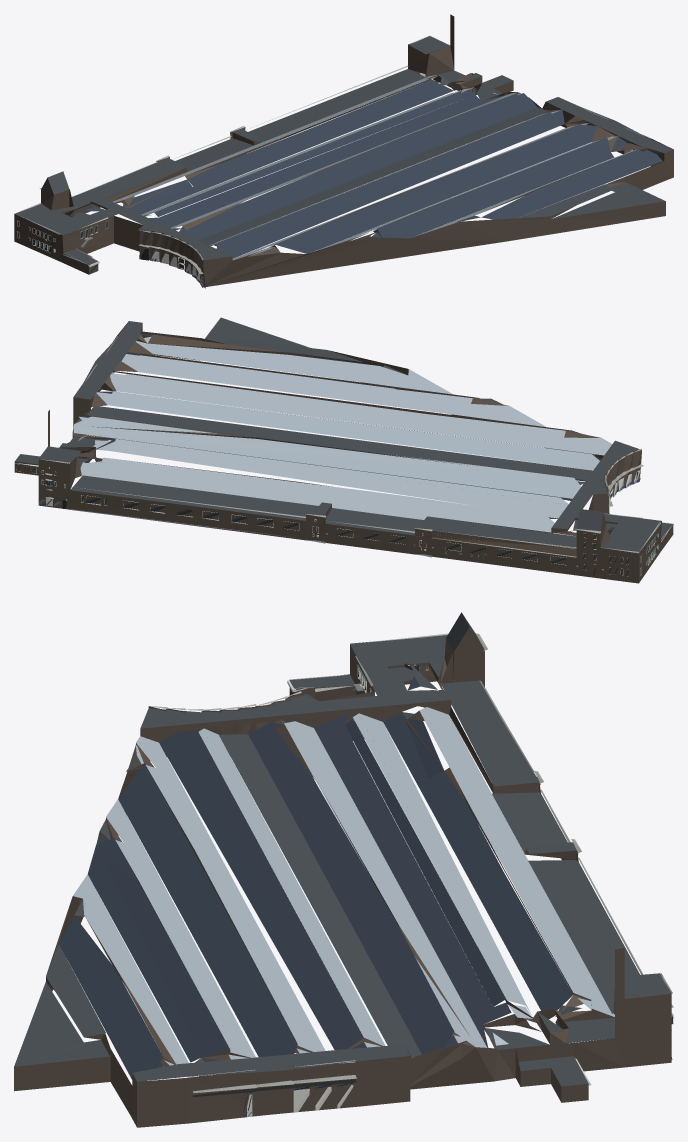
File: tramremise-lekstraat.lod1.glb
The picture shows the model from 3 angles, top to bottom: view 1: azimuth 30°, elevation 25°; view 2: azimuth 150°, elevation 25°; view 3: azimuth 270°, elevation 25°; orthographic projection. The views are drawn at different scales.
Visible parts, largest first — view 1: tramremise-lekstraat; view 2: tramremise-lekstraat; view 3: tramremise-lekstraat.
Part boxes in pixels (box(x1,y1,x2,y2)): tramremise-lekstraat: box(14, 14, 673, 288); tramremise-lekstraat: box(14, 317, 673, 583); tramremise-lekstraat: box(14, 612, 673, 1127).
Bounding box in the file's own units: 210 × 26.13 × 131.
